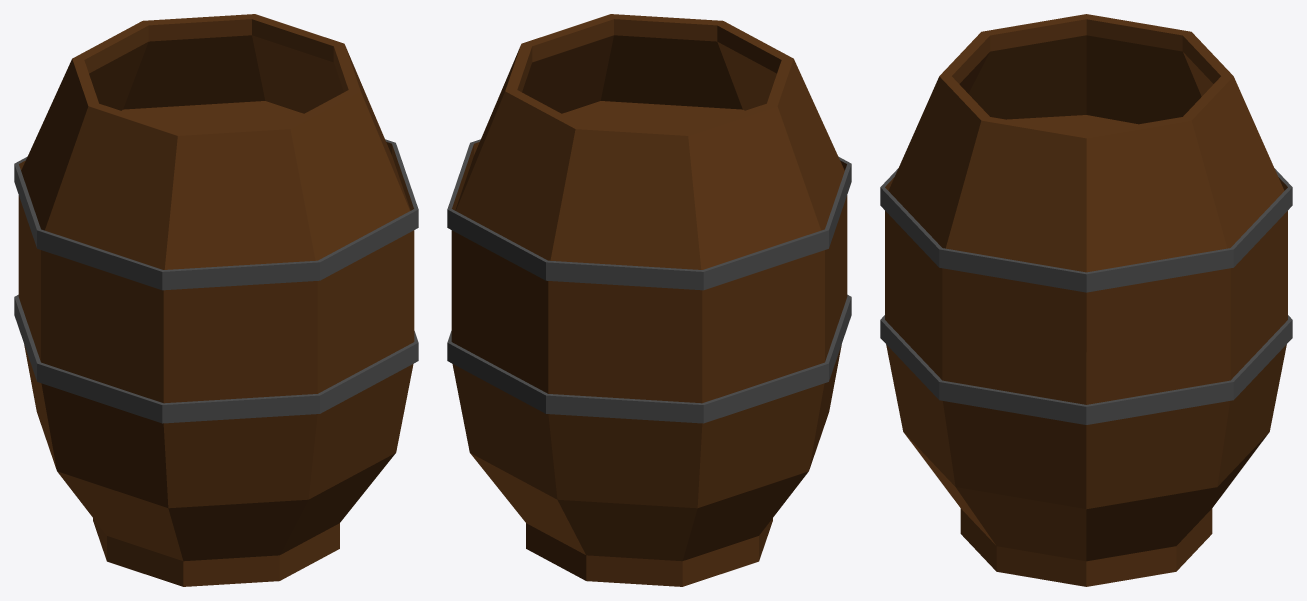
The model's file is Barrel01_Opened.fbx.
3 renders of one model, left to right at view 1: azimuth 30°, elevation 25°; view 2: azimuth 150°, elevation 25°; view 3: azimuth 270°, elevation 25°, orthographic.
Parts seen in each view (by area): view 1: Cube.002; view 2: Cube.002; view 3: Cube.002.
Boxes of the visible parts, x1=… form: Cube.002: x1=14, y1=14, x2=418, y2=586; Cube.002: x1=447, y1=14, x2=851, y2=586; Cube.002: x1=880, y1=14, x2=1292, y2=586.
Bounding box in the file's own units: 97.78 × 120 × 97.78.
